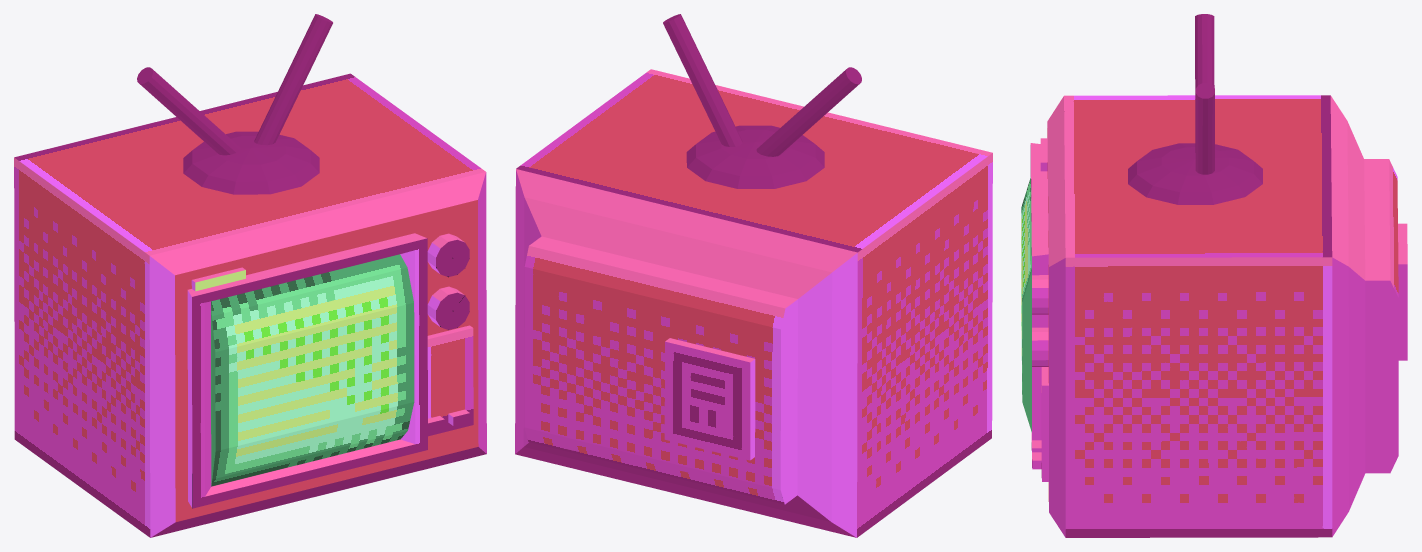
The model's file is model_Television.glb.
3 views of the same model, side by side, from view 1: azimuth 30°, elevation 25°; view 2: azimuth 150°, elevation 25°; view 3: azimuth 270°, elevation 25° (orthographic). The views are drawn at different scales.
Parts seen in each view (by area): view 1: cube; view 2: cube; view 3: cube.
Boxes of the visible parts, left/top/right/bottom form: cube: left=14, top=14, right=486, bottom=537; cube: left=515, top=14, right=992, bottom=537; cube: left=1021, top=14, right=1407, bottom=537.
Size of the model in its own units: 0.3711 by 0.4306 by 0.3697.
Materials: 1 (1 with a texture image).
